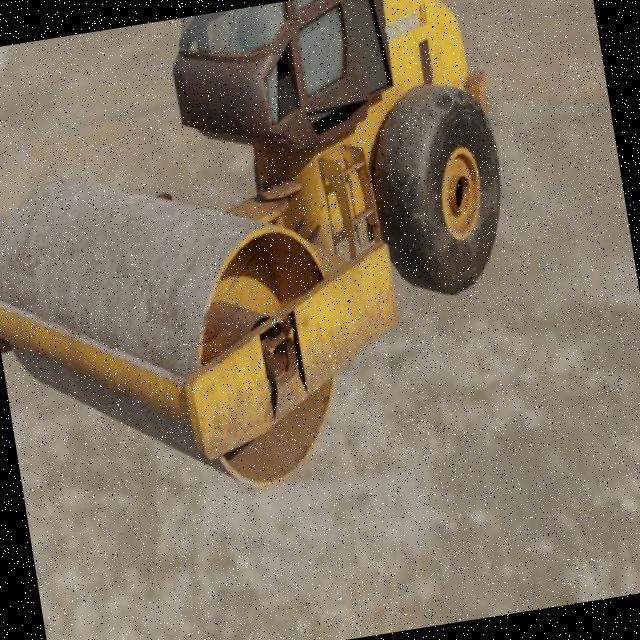Roller: (0, 0, 545, 526)
